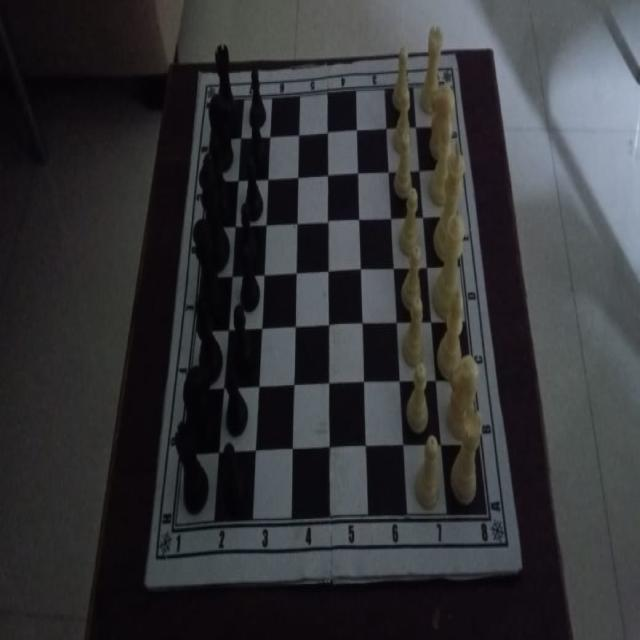corners: (140, 566, 156, 595), (514, 545, 528, 578), (198, 62, 206, 82), (450, 48, 458, 67)
